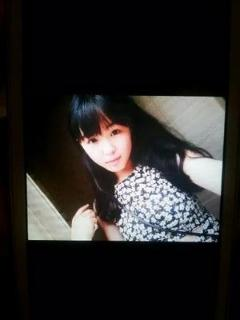vest: (101, 147, 220, 242)
